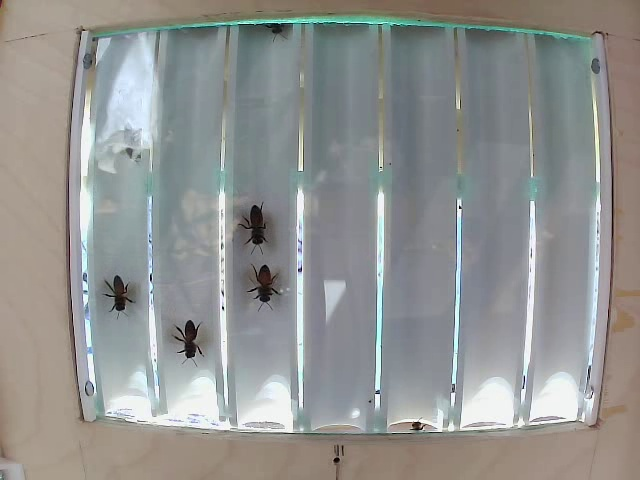bee: (179, 301, 214, 370), (91, 266, 138, 316), (242, 196, 277, 247), (242, 257, 275, 310)
